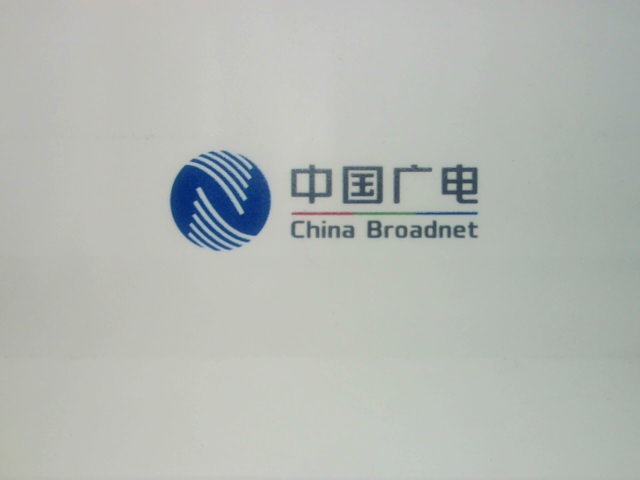AW_ChinaBroadNet: (152, 131, 517, 268)
